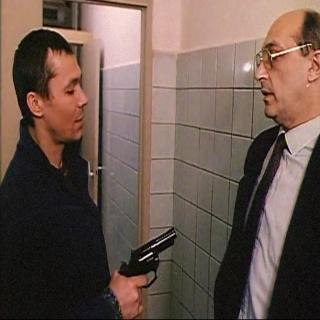gun: (104, 220, 182, 310)
